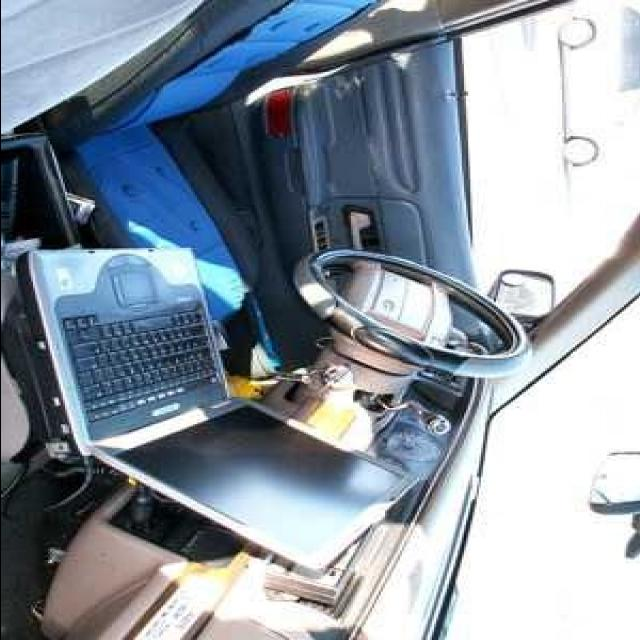laptop: (34, 256, 398, 570)
